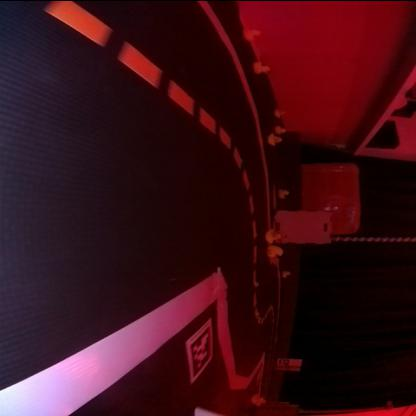Duckie: (254, 61, 271, 72), (268, 132, 282, 144), (268, 228, 282, 239), (268, 245, 284, 254), (246, 28, 260, 38), (254, 392, 262, 402), (280, 188, 289, 196), (276, 125, 286, 132), (278, 109, 284, 115), (284, 270, 291, 275)
QR code: (187, 318, 213, 381)
